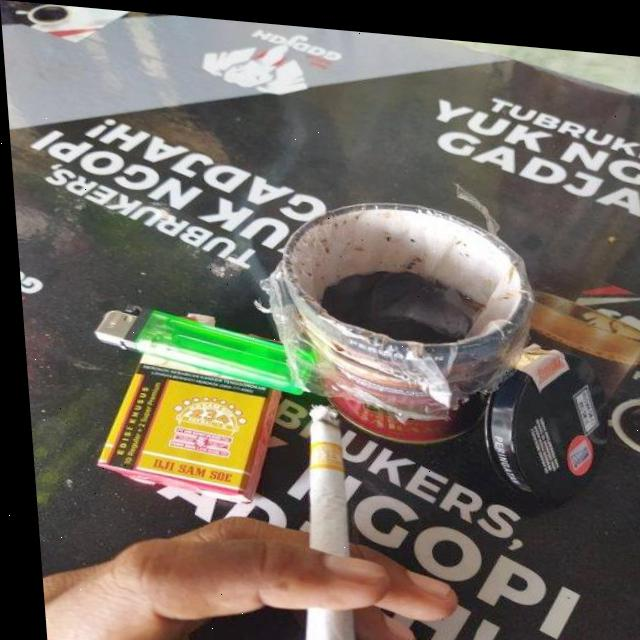cigarette: (277, 397, 349, 640)
